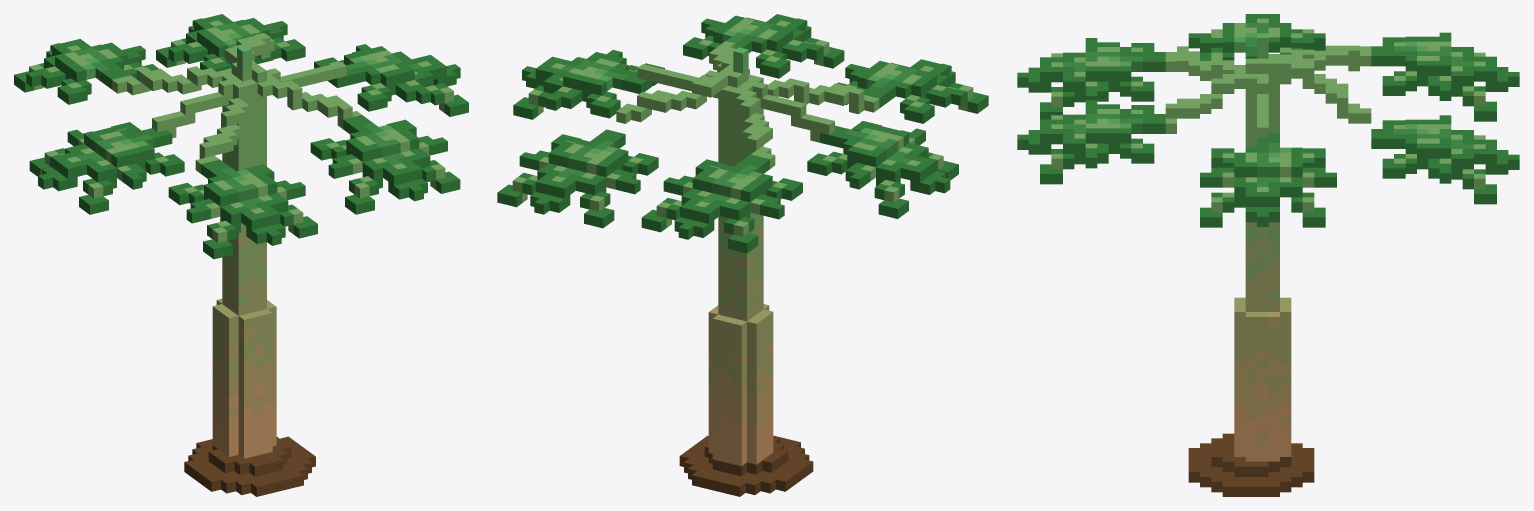
The model's file is 2_2 mamao.obj.
3 views of the same model, side by side, from view 1: azimuth 30°, elevation 25°; view 2: azimuth 150°, elevation 25°; view 3: azimuth 270°, elevation 25° (orthographic). The views are drawn at different scales.
Size of the model in its own units: 4.4 by 4.2 by 4.4.
Materials: 1 (1 with a texture image).
